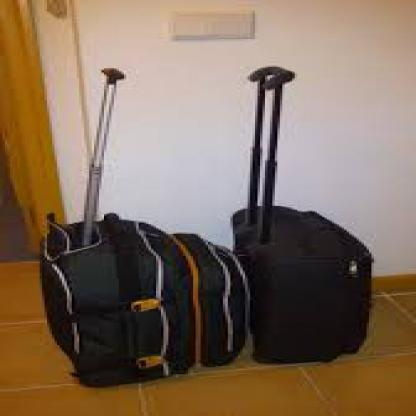maleta: (225, 186, 399, 384)
morral: (27, 181, 253, 392)
